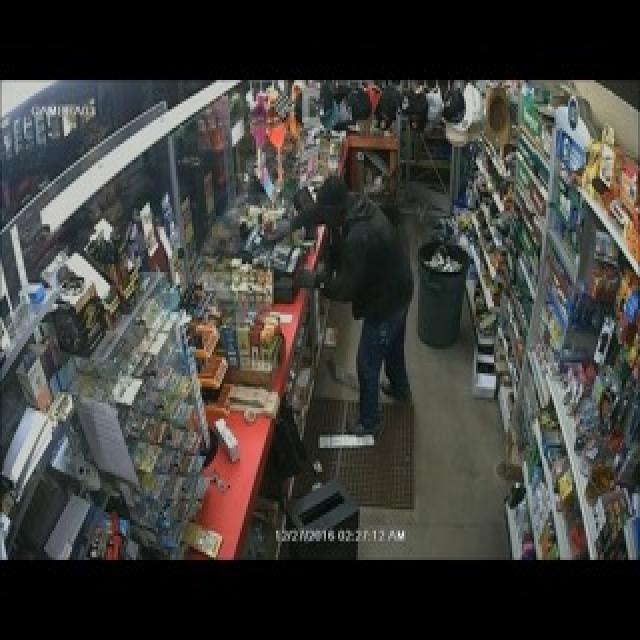thief: (317, 177, 426, 415)
